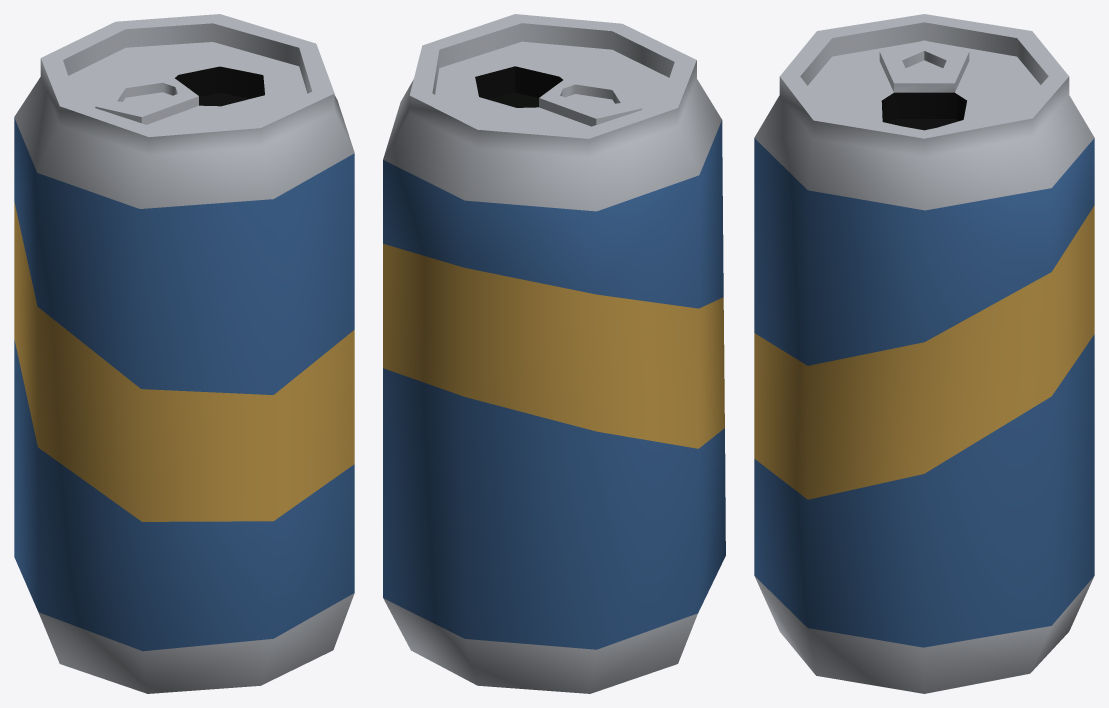
Rendered from SM_Prop_Can_Soda_01.obj.
The picture shows the model from 3 angles, left to right: view 1: azimuth 30°, elevation 25°; view 2: azimuth 150°, elevation 25°; view 3: azimuth 270°, elevation 25°; orthographic projection.
Visible parts, largest first — view 1: SM_Prop_Can_Soda_01_Mat_SwatchOverlay_PolygonOffice_01_Inst; view 2: SM_Prop_Can_Soda_01_Mat_SwatchOverlay_PolygonOffice_01_Inst; view 3: SM_Prop_Can_Soda_01_Mat_SwatchOverlay_PolygonOffice_01_Inst.
Part boxes in pixels (bbox=[...]): SM_Prop_Can_Soda_01_Mat_SwatchOverlay_PolygonOffice_01_Inst: bbox=[14, 14, 354, 693]; SM_Prop_Can_Soda_01_Mat_SwatchOverlay_PolygonOffice_01_Inst: bbox=[383, 14, 725, 693]; SM_Prop_Can_Soda_01_Mat_SwatchOverlay_PolygonOffice_01_Inst: bbox=[754, 14, 1094, 693].
Bounding box in the file's own units: 0.1096 × 0.1946 × 0.1081.
1 material, 1 textured.
